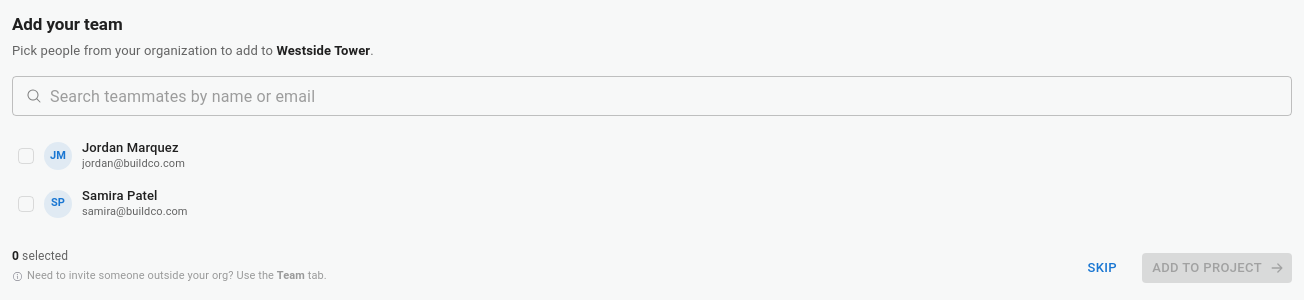
AddProjectMembersStep › shows an empty state when search has no matches
This screenshot has width=1304, height=300.
Type "zzz" into the field with placeholder "Search teammates by name or email" at point(671, 96), box [50, 76, 1292, 116]
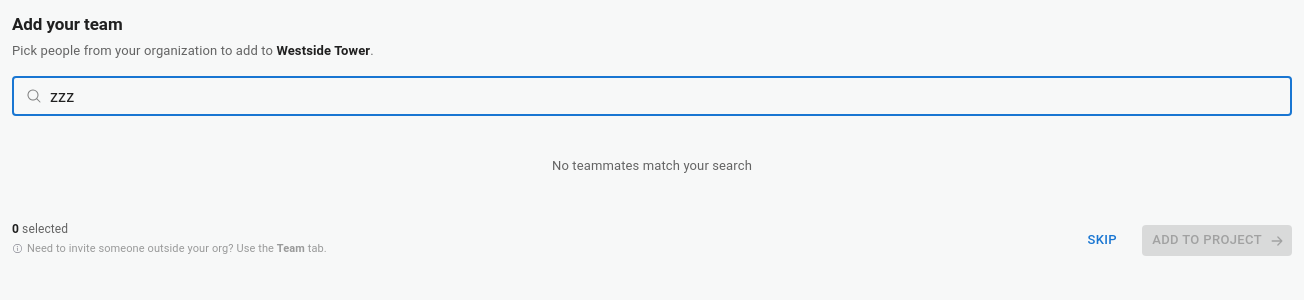
Check: the text "No teammates match your search" is shown, box [552, 158, 752, 173]
